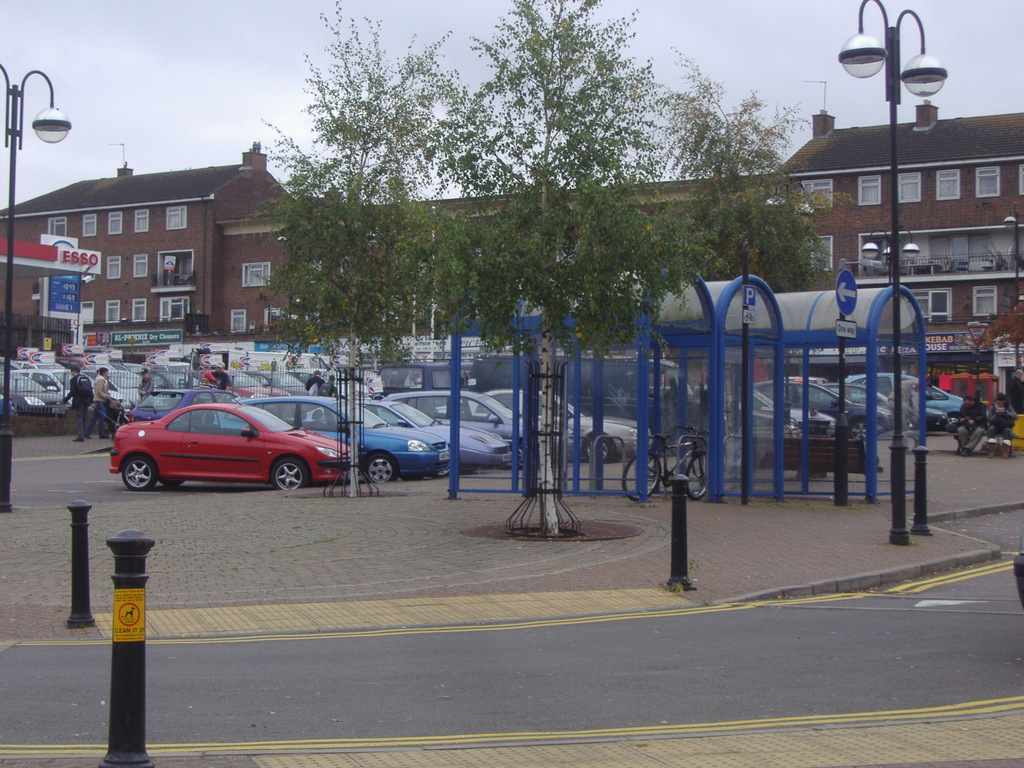cars: (0, 335, 984, 483)
